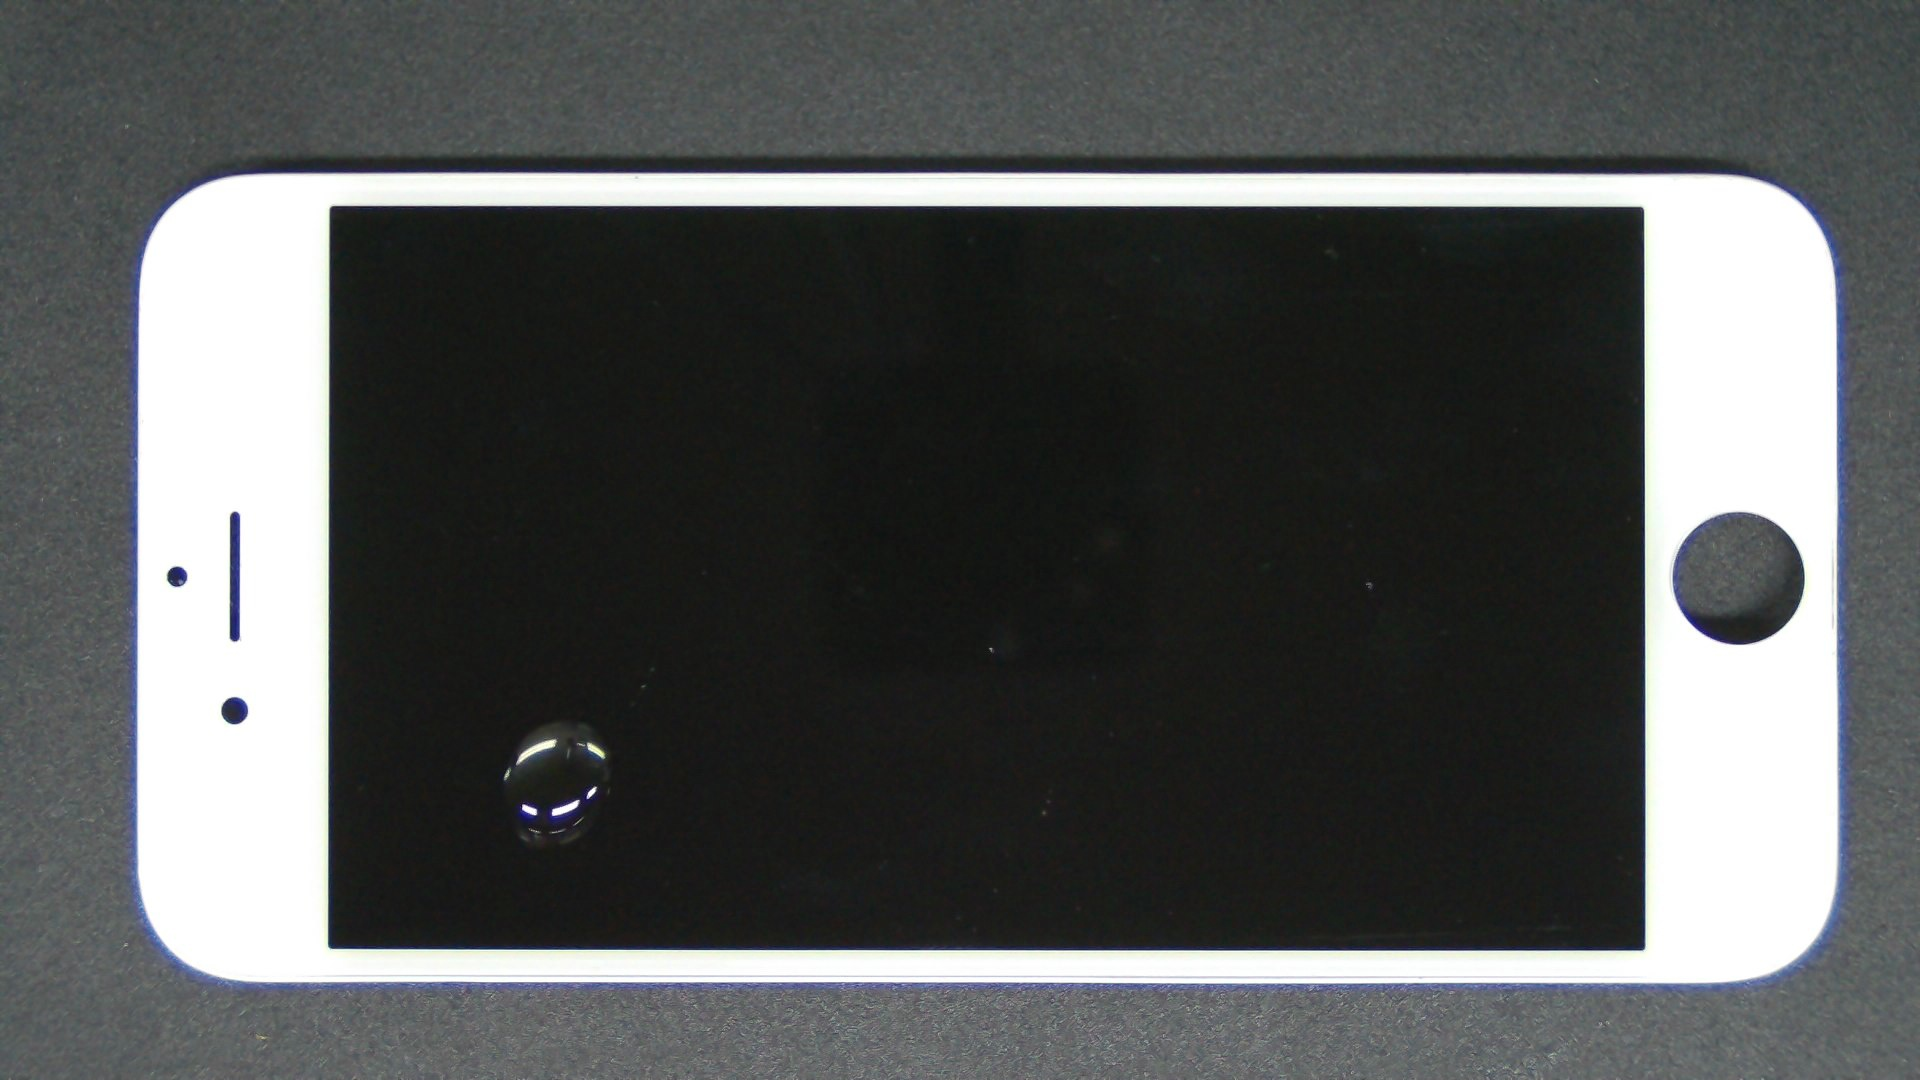oil: (282, 360, 845, 1080)
